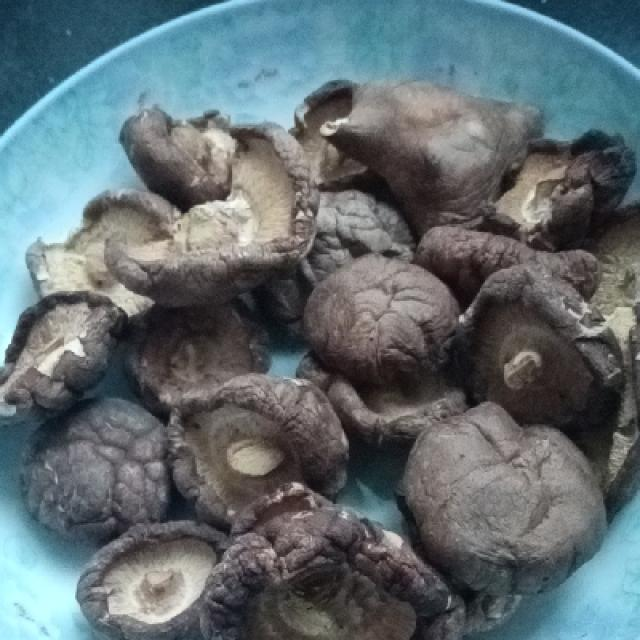Lentinus edodes: (405, 406, 603, 593), (104, 131, 326, 284), (464, 259, 628, 439), (164, 379, 352, 526), (31, 390, 176, 535), (72, 513, 224, 640), (318, 257, 460, 378), (486, 132, 630, 250), (0, 291, 115, 421)
